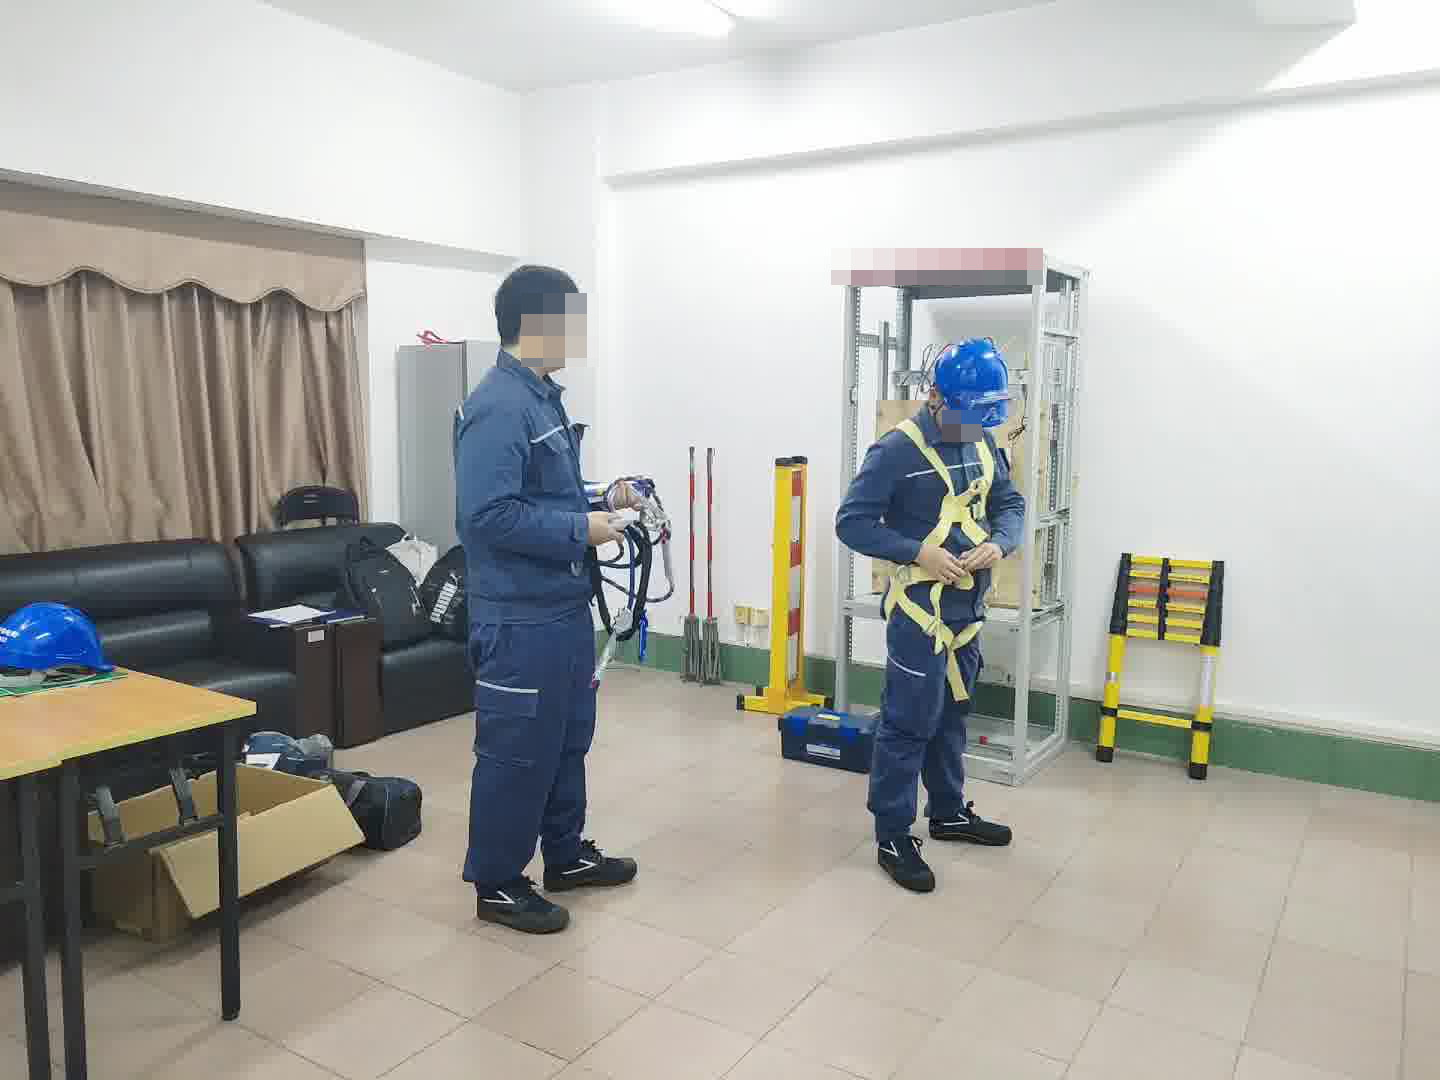downsuit: (462, 630, 600, 880), (866, 608, 975, 829)
halt: (930, 335, 1013, 434)
hand: (912, 540, 963, 585), (957, 542, 1015, 572), (588, 512, 623, 542)
inear: (917, 381, 953, 418)
noear: (514, 310, 550, 343)
person: (449, 259, 632, 927), (836, 334, 1031, 873)
safebelt: (878, 410, 995, 700)
unhalt: (491, 263, 587, 372)
upsuit: (453, 356, 599, 608), (839, 405, 1024, 594)
